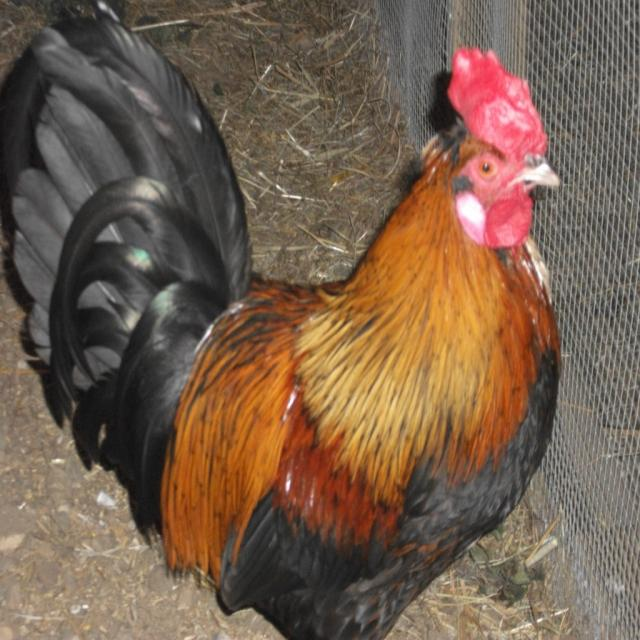Chicken: (4, 0, 563, 639)
